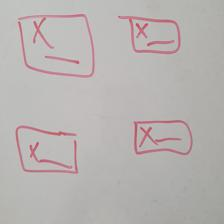signature: (17, 14, 95, 78), (14, 124, 78, 175), (117, 14, 180, 54), (133, 120, 193, 155)
